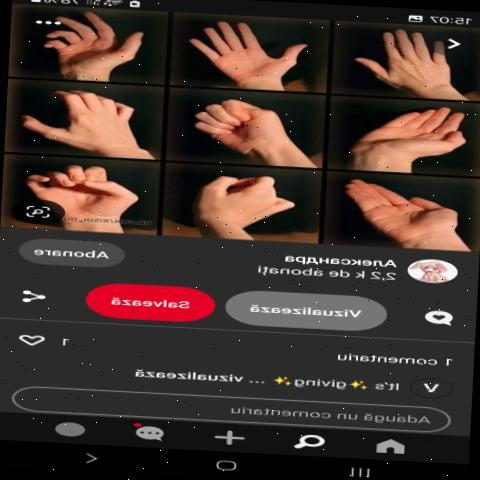Hands: (334, 170, 466, 250), (17, 80, 149, 157), (340, 102, 466, 180), (177, 17, 315, 85), (35, 2, 153, 80), (181, 94, 300, 168), (342, 22, 466, 92)
